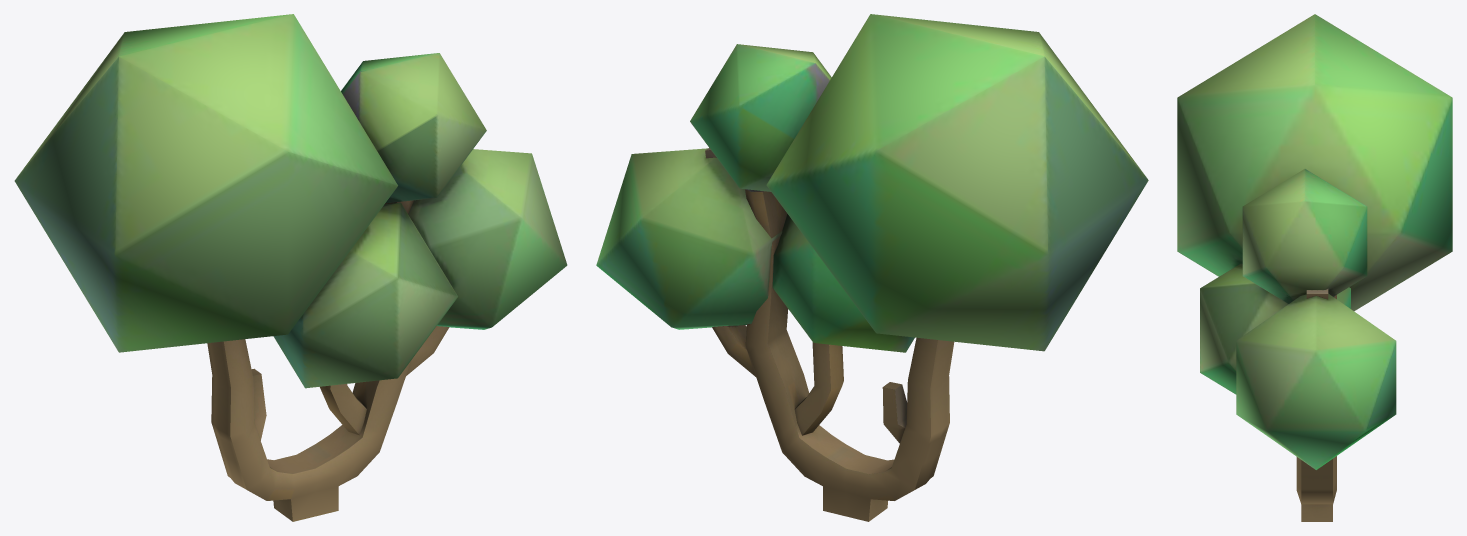
File: feitong_tree_2.fbx
3 views of the same model, side by side, from view 1: azimuth 30°, elevation 25°; view 2: azimuth 150°, elevation 25°; view 3: azimuth 270°, elevation 25° (orthographic). The views are drawn at different scales.
Visible parts, largest first — view 1: tree3:polySurface1; view 2: tree3:polySurface1; view 3: tree3:polySurface1.
Boxes of the visible parts, left/top/right/bottom form: tree3:polySurface1: left=14, top=14, right=567, bottom=521; tree3:polySurface1: left=596, top=14, right=1148, bottom=521; tree3:polySurface1: left=1177, top=14, right=1452, bottom=521.
Bounding box in the file's own units: 13.5 × 13.61 × 8.06.
